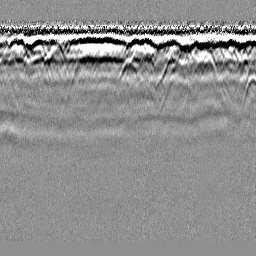cavity: (117, 57, 139, 80)
